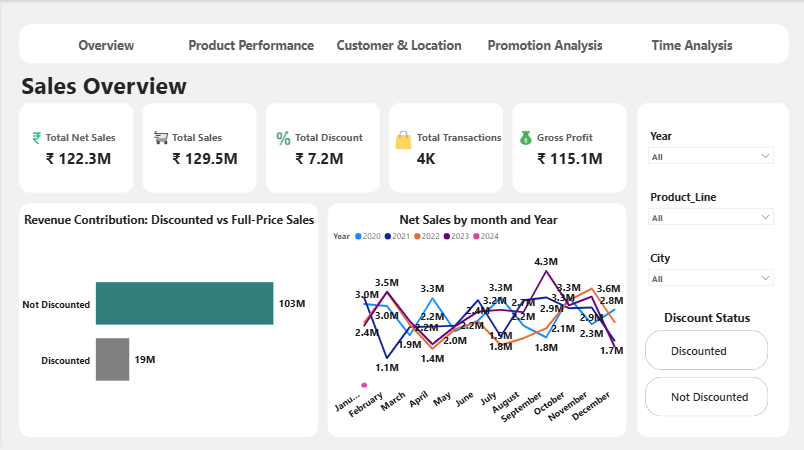

What the dashboard file says about the page in this screenshot:
{"tool":"powerbi","page":{"name":"Overview","canvas":[1280,720],"ordinal":0},"visuals":[{"type":"cardVisual","fields":{"Data":["Measures (2).Total Sales"]},"box":[224.8,169,169,136.2],"z":0},{"type":"cardVisual","fields":{"Data":["Measures (2).Total Discount"]},"box":[418.5,169,177.2,136.2],"z":1000},{"type":"cardVisual","fields":{"Data":["Measures (2).Total Transactions"]},"box":[607.2,169,210.1,136.2],"z":2000},{"type":"cardVisual","fields":{"Data":["Measures (2).Gross Profit"]},"box":[805.7,169,169,136.2],"z":3000},{"type":"cardVisual","fields":{"Data":["Measures (2).Total Net Sales"]},"box":[26.3,169,178.9,136.2],"z":4000},{"type":"barChart","title":"Revenue Contribution: Discounted vs Full-Price Sales","fields":{"Y":["Measures (2).Total Net Sales"],"Category":["fact_sales.Discount Status"]},"box":[26.3,336.4,480.8,359.4],"z":5000},{"type":"lineChart","title":"Net Sales by month and Year","fields":{"Category":["fact_sales.month_name"],"Y":["Measures (2).Total Net Sales"],"Series":["fact_sales.Year"]},"box":[521.8,336.4,472.6,359.4],"z":6000},{"type":"slicer","fields":{"Values":["fact_sales.Year"]},"box":[1019.1,198.6,219.9,77.1],"z":7000},{"type":"slicer","fields":{"Values":["dim_product.Product_Line"]},"box":[1019.1,297,219.9,77.1],"z":8000},{"type":"slicer","fields":{"Values":["dim_customer.City"]},"box":[1019.1,393.8,219.9,77.1],"z":9000},{"type":"listSlicer","fields":{"Values":["fact_sales.Discount Status"]},"box":[1019.1,492.3,206.8,177.2],"z":10000},{"type":"textbox","box":[26.3,105,392.2,64],"z":11000},{"type":"actionButton","title":"Overview","box":[55.8,49.2,220,45],"z":12000},{"type":"actionButton","box":[287.2,49.2,219.9,44.3],"z":13000},{"type":"actionButton","box":[521.8,49.2,219.9,44.3],"z":14000},{"type":"actionButton","box":[754.9,49.2,219.9,44.3],"z":15000},{"type":"actionButton","box":[989.5,49.2,219.9,44.3],"z":16000}]}

Visuals, with their boxes in screenshot pixels (x1, y1, x2, y2), scaled from the page's 1280x720 canvas onto the 804x450 screenshot:
cardVisual - Measures (2).Total Sales: [left=141, top=106, right=247, bottom=191]
cardVisual - Measures (2).Total Discount: [left=263, top=106, right=374, bottom=191]
cardVisual - Measures (2).Total Transactions: [left=381, top=106, right=513, bottom=191]
cardVisual - Measures (2).Gross Profit: [left=506, top=106, right=612, bottom=191]
cardVisual - Measures (2).Total Net Sales: [left=17, top=106, right=129, bottom=191]
"Revenue Contribution: Discounted vs Full-Price Sales" barChart: [left=17, top=210, right=319, bottom=435]
"Net Sales by month and Year" lineChart: [left=328, top=210, right=625, bottom=435]
slicer - fact_sales.Year: [left=640, top=124, right=778, bottom=172]
slicer - dim_product.Product_Line: [left=640, top=186, right=778, bottom=234]
slicer - dim_customer.City: [left=640, top=246, right=778, bottom=294]
listSlicer - fact_sales.Discount Status: [left=640, top=308, right=770, bottom=418]
textbox: [left=17, top=66, right=263, bottom=106]
"Overview" actionButton: [left=35, top=31, right=173, bottom=59]
actionButton: [left=180, top=31, right=319, bottom=58]
actionButton: [left=328, top=31, right=466, bottom=58]
actionButton: [left=474, top=31, right=612, bottom=58]
actionButton: [left=622, top=31, right=760, bottom=58]
